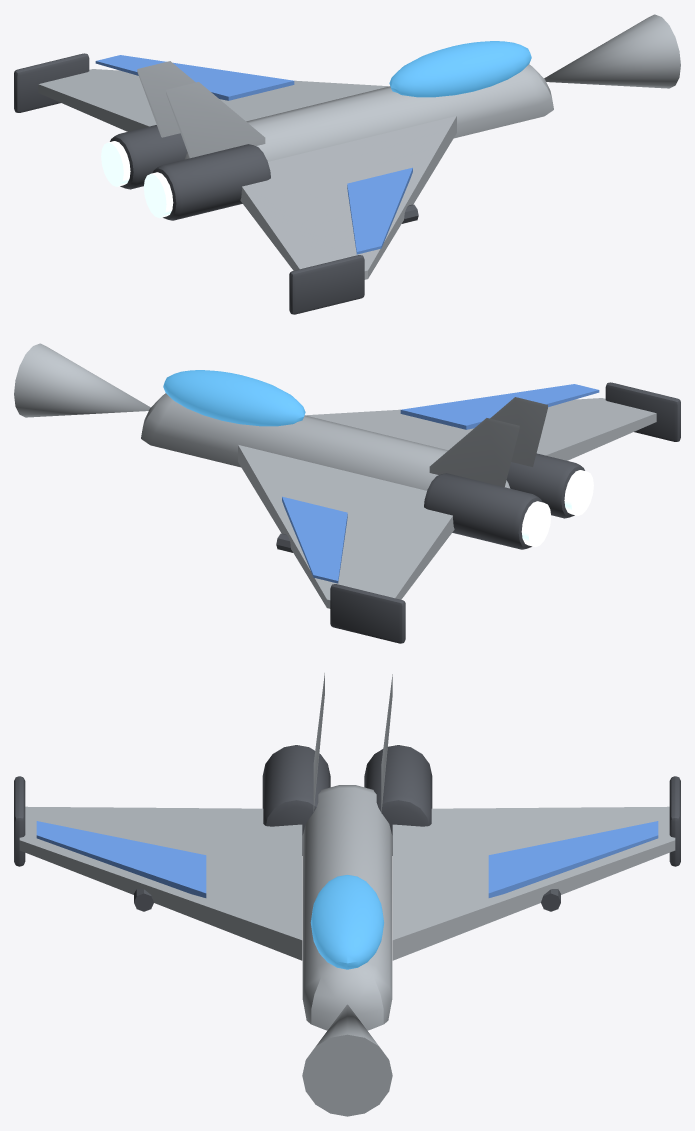
Rendered from hum_fighter.glb.
3 views of the same model, one above another, from view 1: azimuth 30°, elevation 25°; view 2: azimuth 150°, elevation 25°; view 3: azimuth 270°, elevation 25° (orthographic). The views are drawn at different scales.
Parts seen in each view (by area): view 1: hum_fighter; view 2: hum_fighter; view 3: hum_fighter.
Boxes of the visible parts, x1=… form: hum_fighter: x1=14, y1=14, x2=680, y2=314; hum_fighter: x1=14, y1=343, x2=680, y2=643; hum_fighter: x1=14, y1=673, x2=680, y2=1116.
Bounding box in the file's own units: 1.28 × 0.3038 × 1.18.
